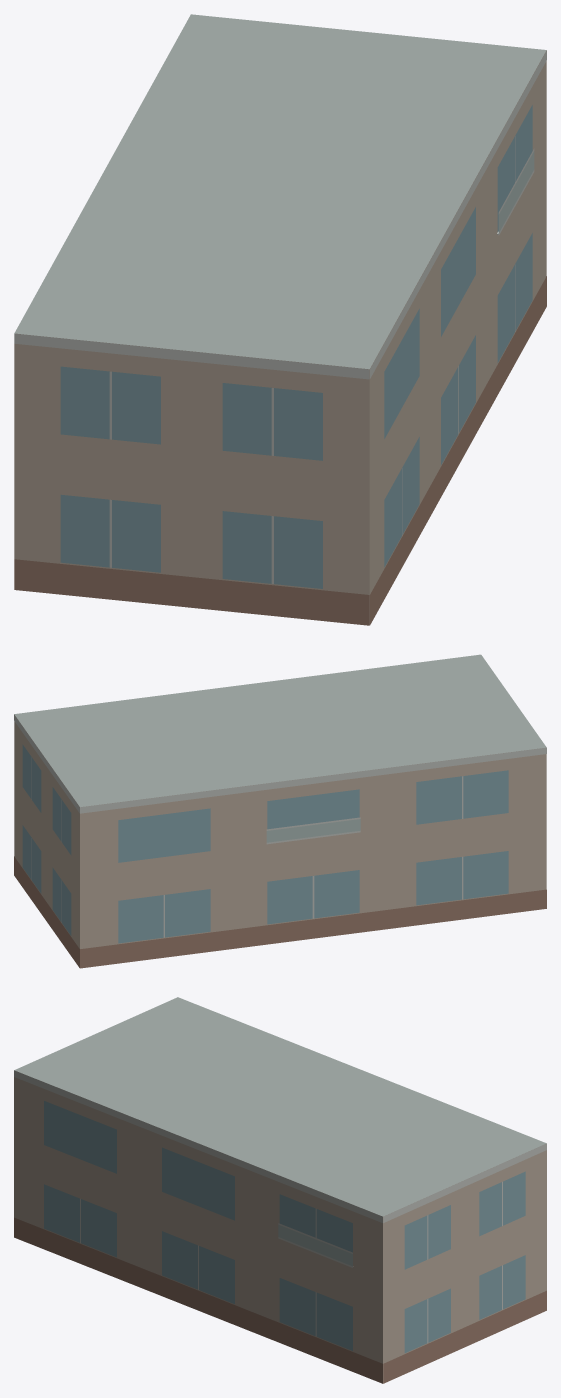
The model's file is survey-upis-32798591.glb.
3 views of the same model, one above another, from view 1: azimuth 30°, elevation 25°; view 2: azimuth 150°, elevation 25°; view 3: azimuth 270°, elevation 25° (orthographic). The views are drawn at different scales.
Visible parts, largest first — view 1: survey-upis-32798591.tmp; view 2: survey-upis-32798591.tmp; view 3: survey-upis-32798591.tmp.
Part boxes in pixels (left/top/right/bottom): survey-upis-32798591.tmp: left=14, top=14, right=546, bottom=625; survey-upis-32798591.tmp: left=14, top=654, right=546, bottom=968; survey-upis-32798591.tmp: left=14, top=997, right=546, bottom=1383.
Bounding box in the file's own units: 17.19 × 6.1 × 17.62.
